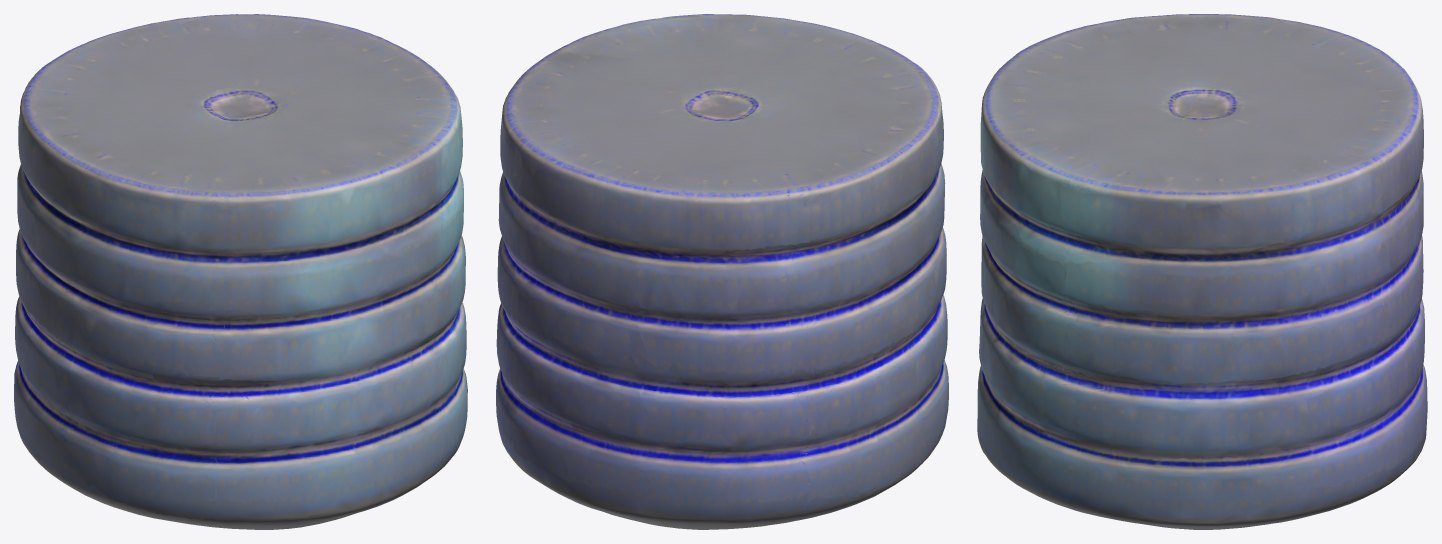
Rendered from database.glb.
3 views of the same model, side by side, from view 1: azimuth 30°, elevation 25°; view 2: azimuth 150°, elevation 25°; view 3: azimuth 270°, elevation 25° (orthographic).
Bounding box in the file's own units: 0.7624 × 0.6962 × 0.772.
Materials: 1 (1 with a texture image).
